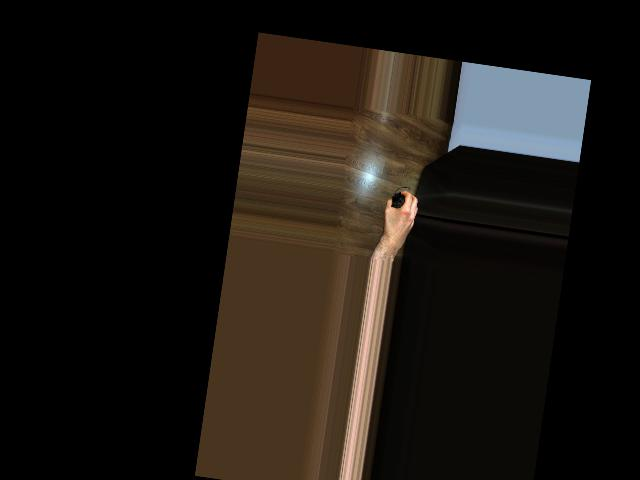beet: (390, 184, 410, 209)
